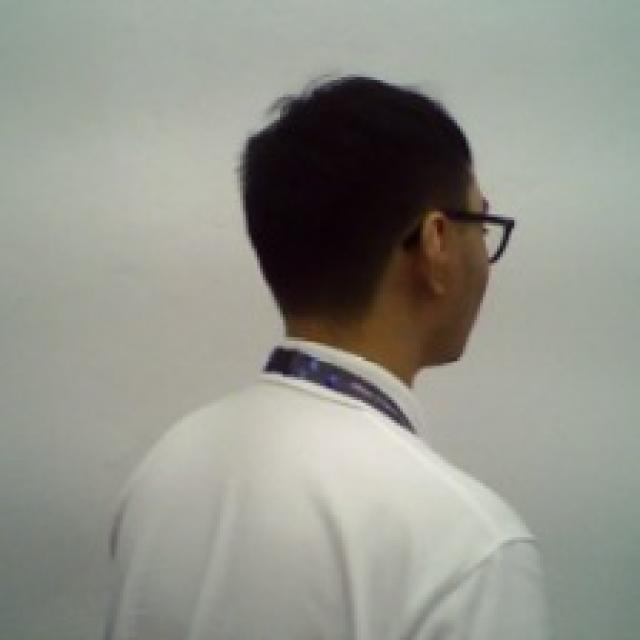no_gloves: (236, 66, 483, 331)
no_hairnet: (406, 205, 496, 403)
